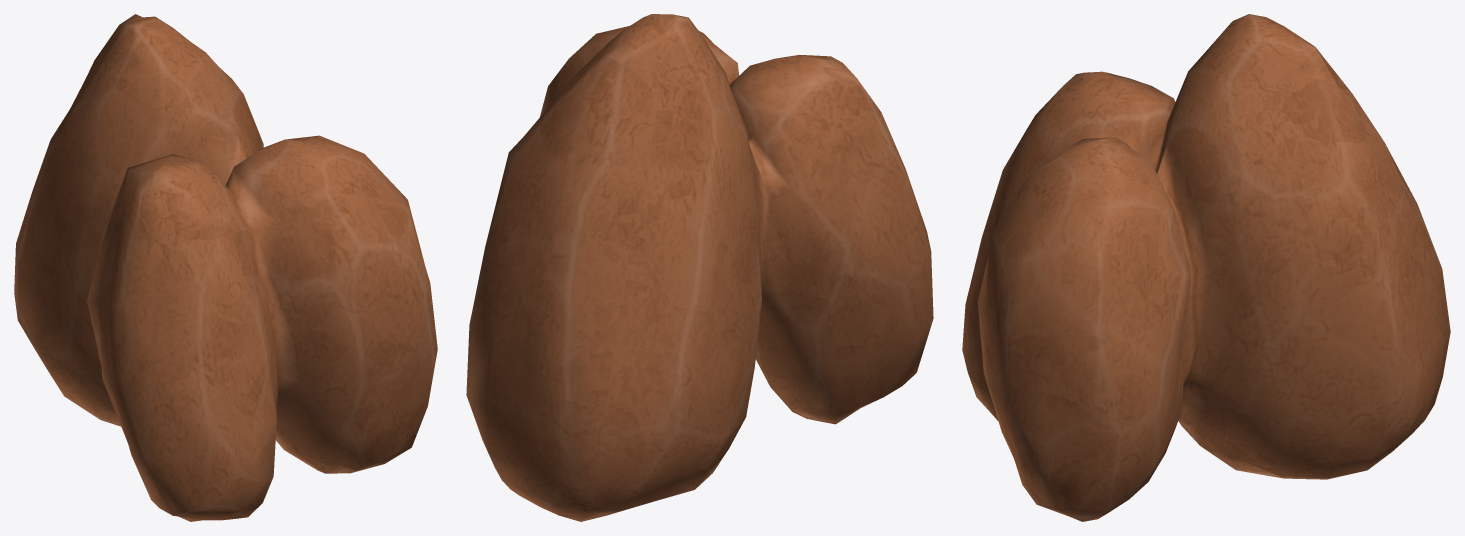
The model's file is Rock5.fbx.
3 views of the same model, side by side, from view 1: azimuth 30°, elevation 25°; view 2: azimuth 150°, elevation 25°; view 3: azimuth 270°, elevation 25° (orthographic). The views are drawn at different scales.
Visible parts, largest first — view 1: MRock5; view 2: MRock5; view 3: MRock5.
Boxes of the visible parts, left/top/right/bottom form: MRock5: left=14, top=14, right=437, bottom=521; MRock5: left=466, top=14, right=933, bottom=521; MRock5: left=962, top=14, right=1450, bottom=521.
Size of the model in its own units: 117 by 140 by 144.
